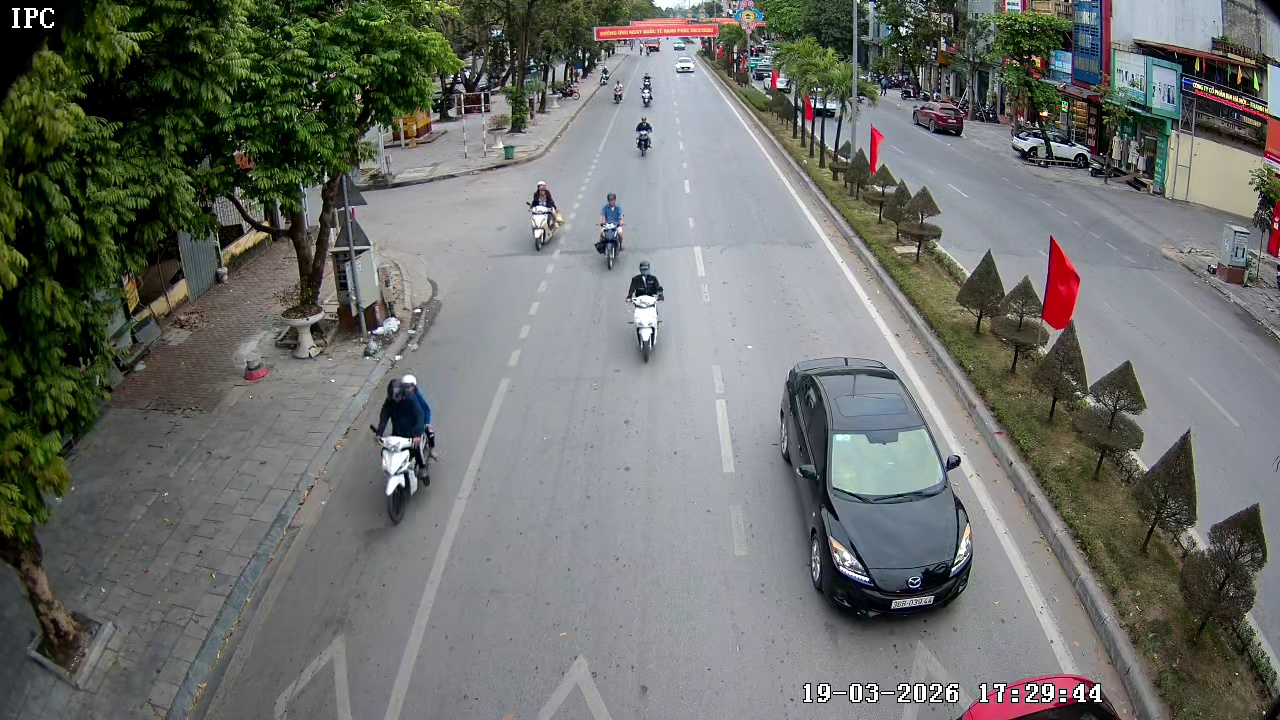car: (779, 358, 974, 617), (673, 54, 697, 74)
motorbike: (369, 372, 439, 526), (625, 260, 667, 363), (524, 180, 563, 254), (592, 191, 627, 272), (632, 114, 656, 159), (638, 82, 656, 120), (614, 80, 624, 101)
